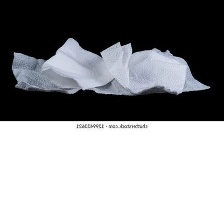tissue: (6, 31, 215, 105)
